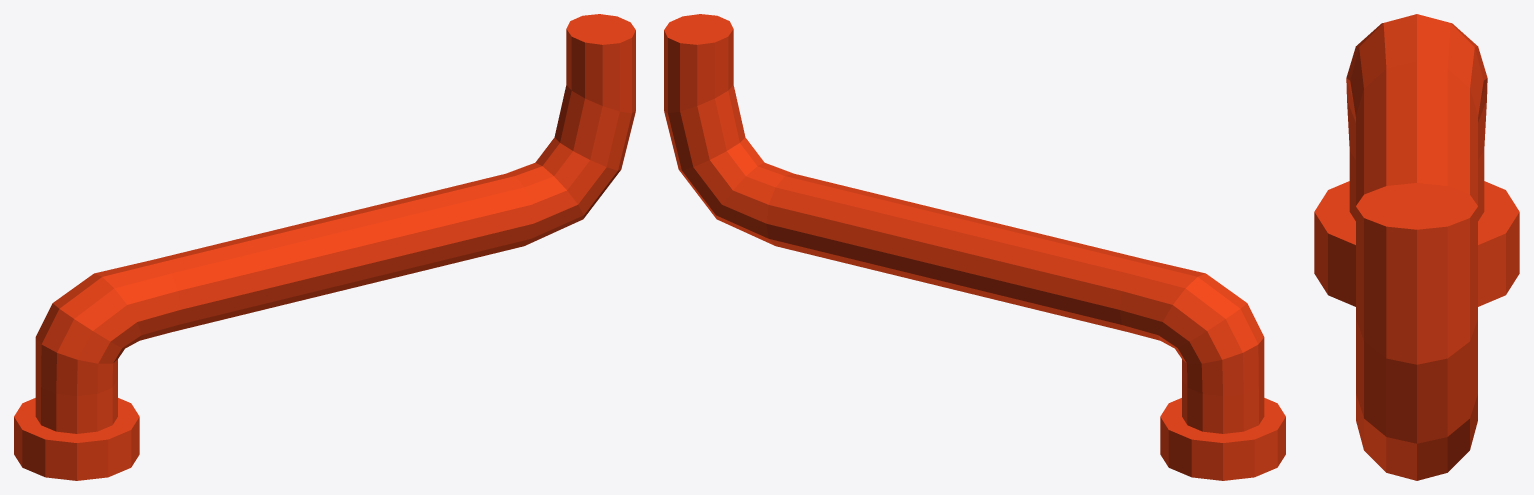
File: MediumCable.fbx
3 renders of one model, left to right at view 1: azimuth 30°, elevation 25°; view 2: azimuth 150°, elevation 25°; view 3: azimuth 270°, elevation 25°, orthographic. The views are drawn at different scales.
Visible parts, largest first — view 1: MediumCable; view 2: MediumCable; view 3: MediumCable.
Part boxes in pixels (x1=…): MediumCable: x1=14, y1=14, x2=635, y2=480; MediumCable: x1=664, y1=14, x2=1285, y2=480; MediumCable: x1=1314, y1=14, x2=1519, y2=480.
Size of the model in its own units: 1.73 by 0.8097 by 0.3105.
